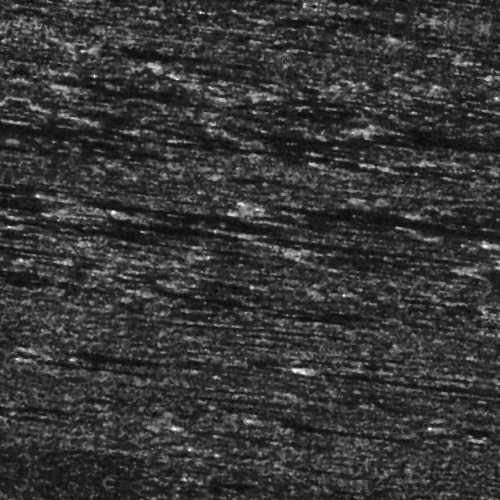object: (28, 217, 91, 226), (256, 411, 319, 420), (23, 371, 86, 376), (50, 63, 91, 70), (304, 356, 357, 361)
shadow: (60, 217, 247, 226), (288, 411, 413, 420), (71, 63, 201, 70), (330, 356, 500, 361), (55, 371, 172, 376)
